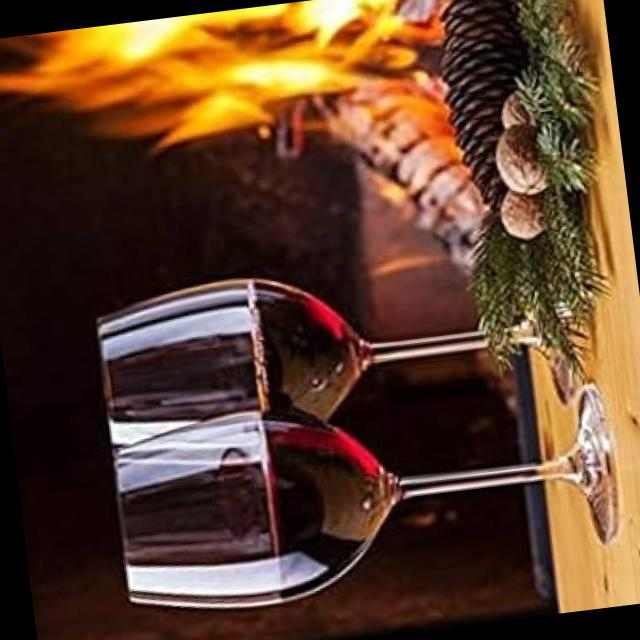glass: (95, 350, 623, 635), (76, 237, 605, 428)
